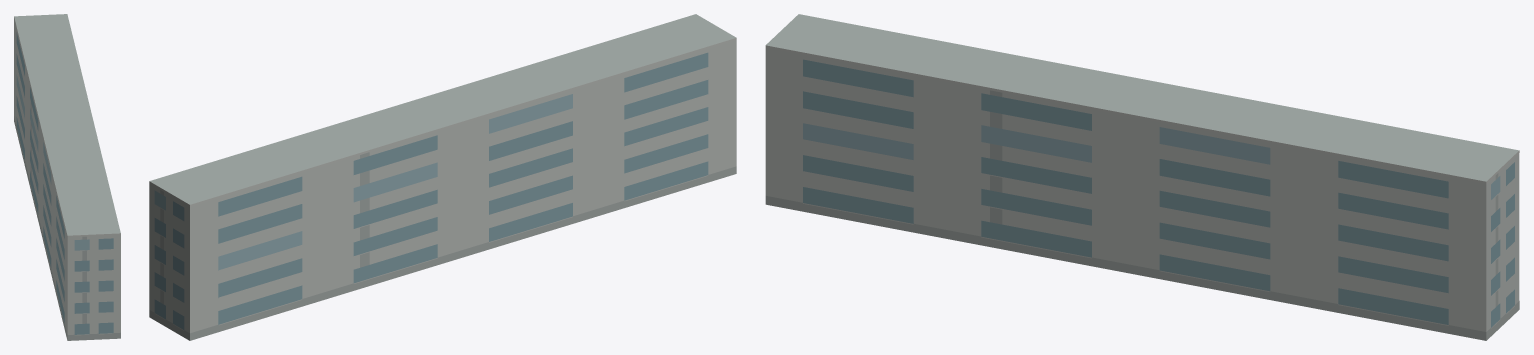
Rendered from residential-95c13cdf-ce06-4135-a018-bba352bfe8eb.glb.
The picture shows the model from 3 angles, left to right: view 1: azimuth 30°, elevation 25°; view 2: azimuth 150°, elevation 25°; view 3: azimuth 270°, elevation 25°; orthographic projection. The views are drawn at different scales.
Visible parts, largest first — view 1: residential-95c13cdf-ce06-4135-a018-bba352bfe8eb.tmp; view 2: residential-95c13cdf-ce06-4135-a018-bba352bfe8eb.tmp; view 3: residential-95c13cdf-ce06-4135-a018-bba352bfe8eb.tmp.
Boxes of the visible parts, x1=… form: residential-95c13cdf-ce06-4135-a018-bba352bfe8eb.tmp: x1=14, y1=14, x2=120, y2=340; residential-95c13cdf-ce06-4135-a018-bba352bfe8eb.tmp: x1=149, y1=14, x2=736, y2=340; residential-95c13cdf-ce06-4135-a018-bba352bfe8eb.tmp: x1=765, y1=14, x2=1519, y2=340.
Size of the model in its own units: 34.45 by 15.25 by 65.44.
